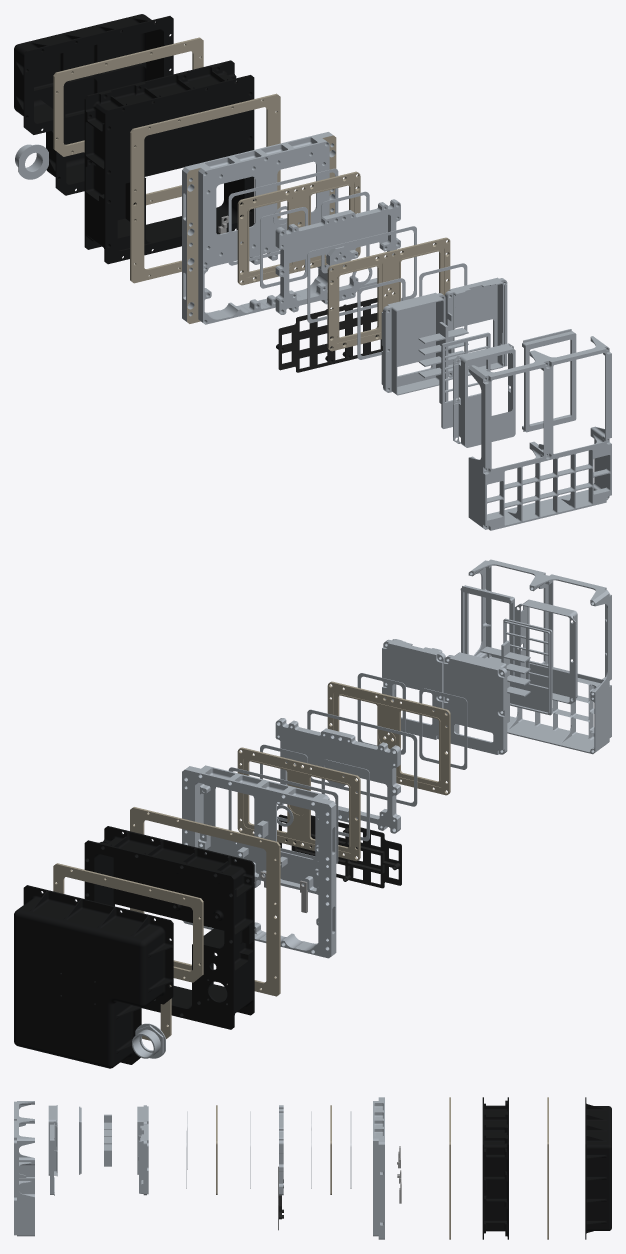
File: DSKY_Exploded.glb
The picture shows the model from 3 angles, top to bottom: view 1: azimuth 30°, elevation 25°; view 2: azimuth 150°, elevation 25°; view 3: azimuth 270°, elevation 25°; orthographic projection. The views are drawn at different scales.
Visible parts, largest first — view 1: 2004705A (Intermediate Enclosure), 2004968E (Base Mountplate), 2004900A (Bottom Enclosure), 2004739A-021 (Top Cover) (4.3" Mod), 2004919E (Intermediate Display Support), DSKYIntermediateGasket, 1006387D (Annunciator Enclosure), 1006315A (Gasket Plate)_2, 1006315A (Gasket Plate)_1, DSKYRearGasket, 1006315G (Nextion Display Enclosure 4.3 in.), 2004699A-000 (Outer Annunciator Cover) (+7 smaller); view 2: 2004900A (Bottom Enclosure), 2004705A (Intermediate Enclosure), 2004968E (Base Mountplate), 2004739A-021 (Top Cover) (4.3" Mod), 2004919E (Intermediate Display Support), 1006387D (Annunciator Enclosure), 1006315A (Gasket Plate)_1, DSKYIntermediateGasket, 1006315A (Gasket Plate)_2, 1006315G (Nextion Display Enclosure 4.3 in.), DSKYRearGasket, 2004699A-000 (Outer Annunciator Cover) (+8 smaller); view 3: 2004705A (Intermediate Enclosure), 2004900A (Bottom Enclosure), 2004739A-021 (Top Cover) (4.3" Mod), 2004968E (Base Mountplate), 1006315G (Nextion Display Enclosure 4.3 in.), 2004699A-000 (Outer Annunciator Cover), 2004919E (Intermediate Display Support), Led_splitter, 1006387D (Annunciator Enclosure), Nextion 4.3 Faceplate MK.2, DSKYIntermediateGasket, DSKYRearGasket.
Boxes of the visible parts, bbox=[...] form: 2004705A (Intermediate Enclosure): bbox=[84, 60, 254, 264]; 2004968E (Base Mountplate): bbox=[182, 132, 336, 324]; 2004900A (Bottom Enclosure): bbox=[14, 14, 173, 195]; 2004739A-021 (Top Cover) (4.3" Mod): bbox=[468, 336, 611, 530]; 2004919E (Intermediate Display Support): bbox=[275, 199, 400, 314]; DSKYIntermediateGasket: bbox=[130, 93, 280, 283]; 1006387D (Annunciator Enclosure): bbox=[381, 292, 445, 395]; 1006315A (Gasket Plate)_2: bbox=[327, 237, 450, 351]; 1006315A (Gasket Plate)_1: bbox=[237, 171, 360, 285]; DSKYRearGasket: bbox=[53, 37, 203, 205]; 1006315G (Nextion Display Enclosure 4.3 in.): bbox=[445, 277, 507, 377]; 2004699A-000 (Outer Annunciator Cover): bbox=[453, 343, 515, 447]; 2004900A (Bottom Enclosure): bbox=[14, 885, 173, 1068]; 2004705A (Intermediate Enclosure): bbox=[84, 826, 254, 1029]; 2004968E (Base Mountplate): bbox=[182, 765, 336, 958]; 2004739A-021 (Top Cover) (4.3" Mod): bbox=[468, 559, 611, 754]; 2004919E (Intermediate Display Support): bbox=[275, 718, 400, 833]; 1006387D (Annunciator Enclosure): bbox=[443, 652, 507, 754]; 1006315A (Gasket Plate)_1: bbox=[237, 747, 360, 861]; DSKYIntermediateGasket: bbox=[130, 807, 280, 996]; 1006315A (Gasket Plate)_2: bbox=[327, 681, 450, 795]; 1006315G (Nextion Display Enclosure 4.3 in.): bbox=[382, 639, 445, 739]; DSKYRearGasket: bbox=[53, 863, 203, 1040]; 2004699A-000 (Outer Annunciator Cover): bbox=[514, 599, 577, 704]; 2004705A (Intermediate Enclosure): bbox=[482, 1097, 508, 1239]; 2004900A (Bottom Enclosure): bbox=[585, 1097, 611, 1239]; 2004739A-021 (Top Cover) (4.3" Mod): bbox=[14, 1101, 34, 1236]; 2004968E (Base Mountplate): bbox=[373, 1097, 384, 1239]; 1006315G (Nextion Display Enclosure 4.3 in.): bbox=[139, 1124, 148, 1195]; 2004699A-000 (Outer Annunciator Cover): bbox=[48, 1105, 57, 1176]; 2004919E (Intermediate Display Support): bbox=[279, 1105, 283, 1195]; Led_splitter: bbox=[104, 1114, 111, 1166]; 1006387D (Annunciator Enclosure): bbox=[137, 1105, 148, 1174]; Nextion 4.3 Faceplate MK.2: bbox=[50, 1123, 54, 1195]; DSKYIntermediateGasket: bbox=[449, 1097, 450, 1239]; DSKYRearGasket: bbox=[547, 1097, 548, 1239].
Size of the model in its own units: 0.2065 by 0.2033 by 1.13.
